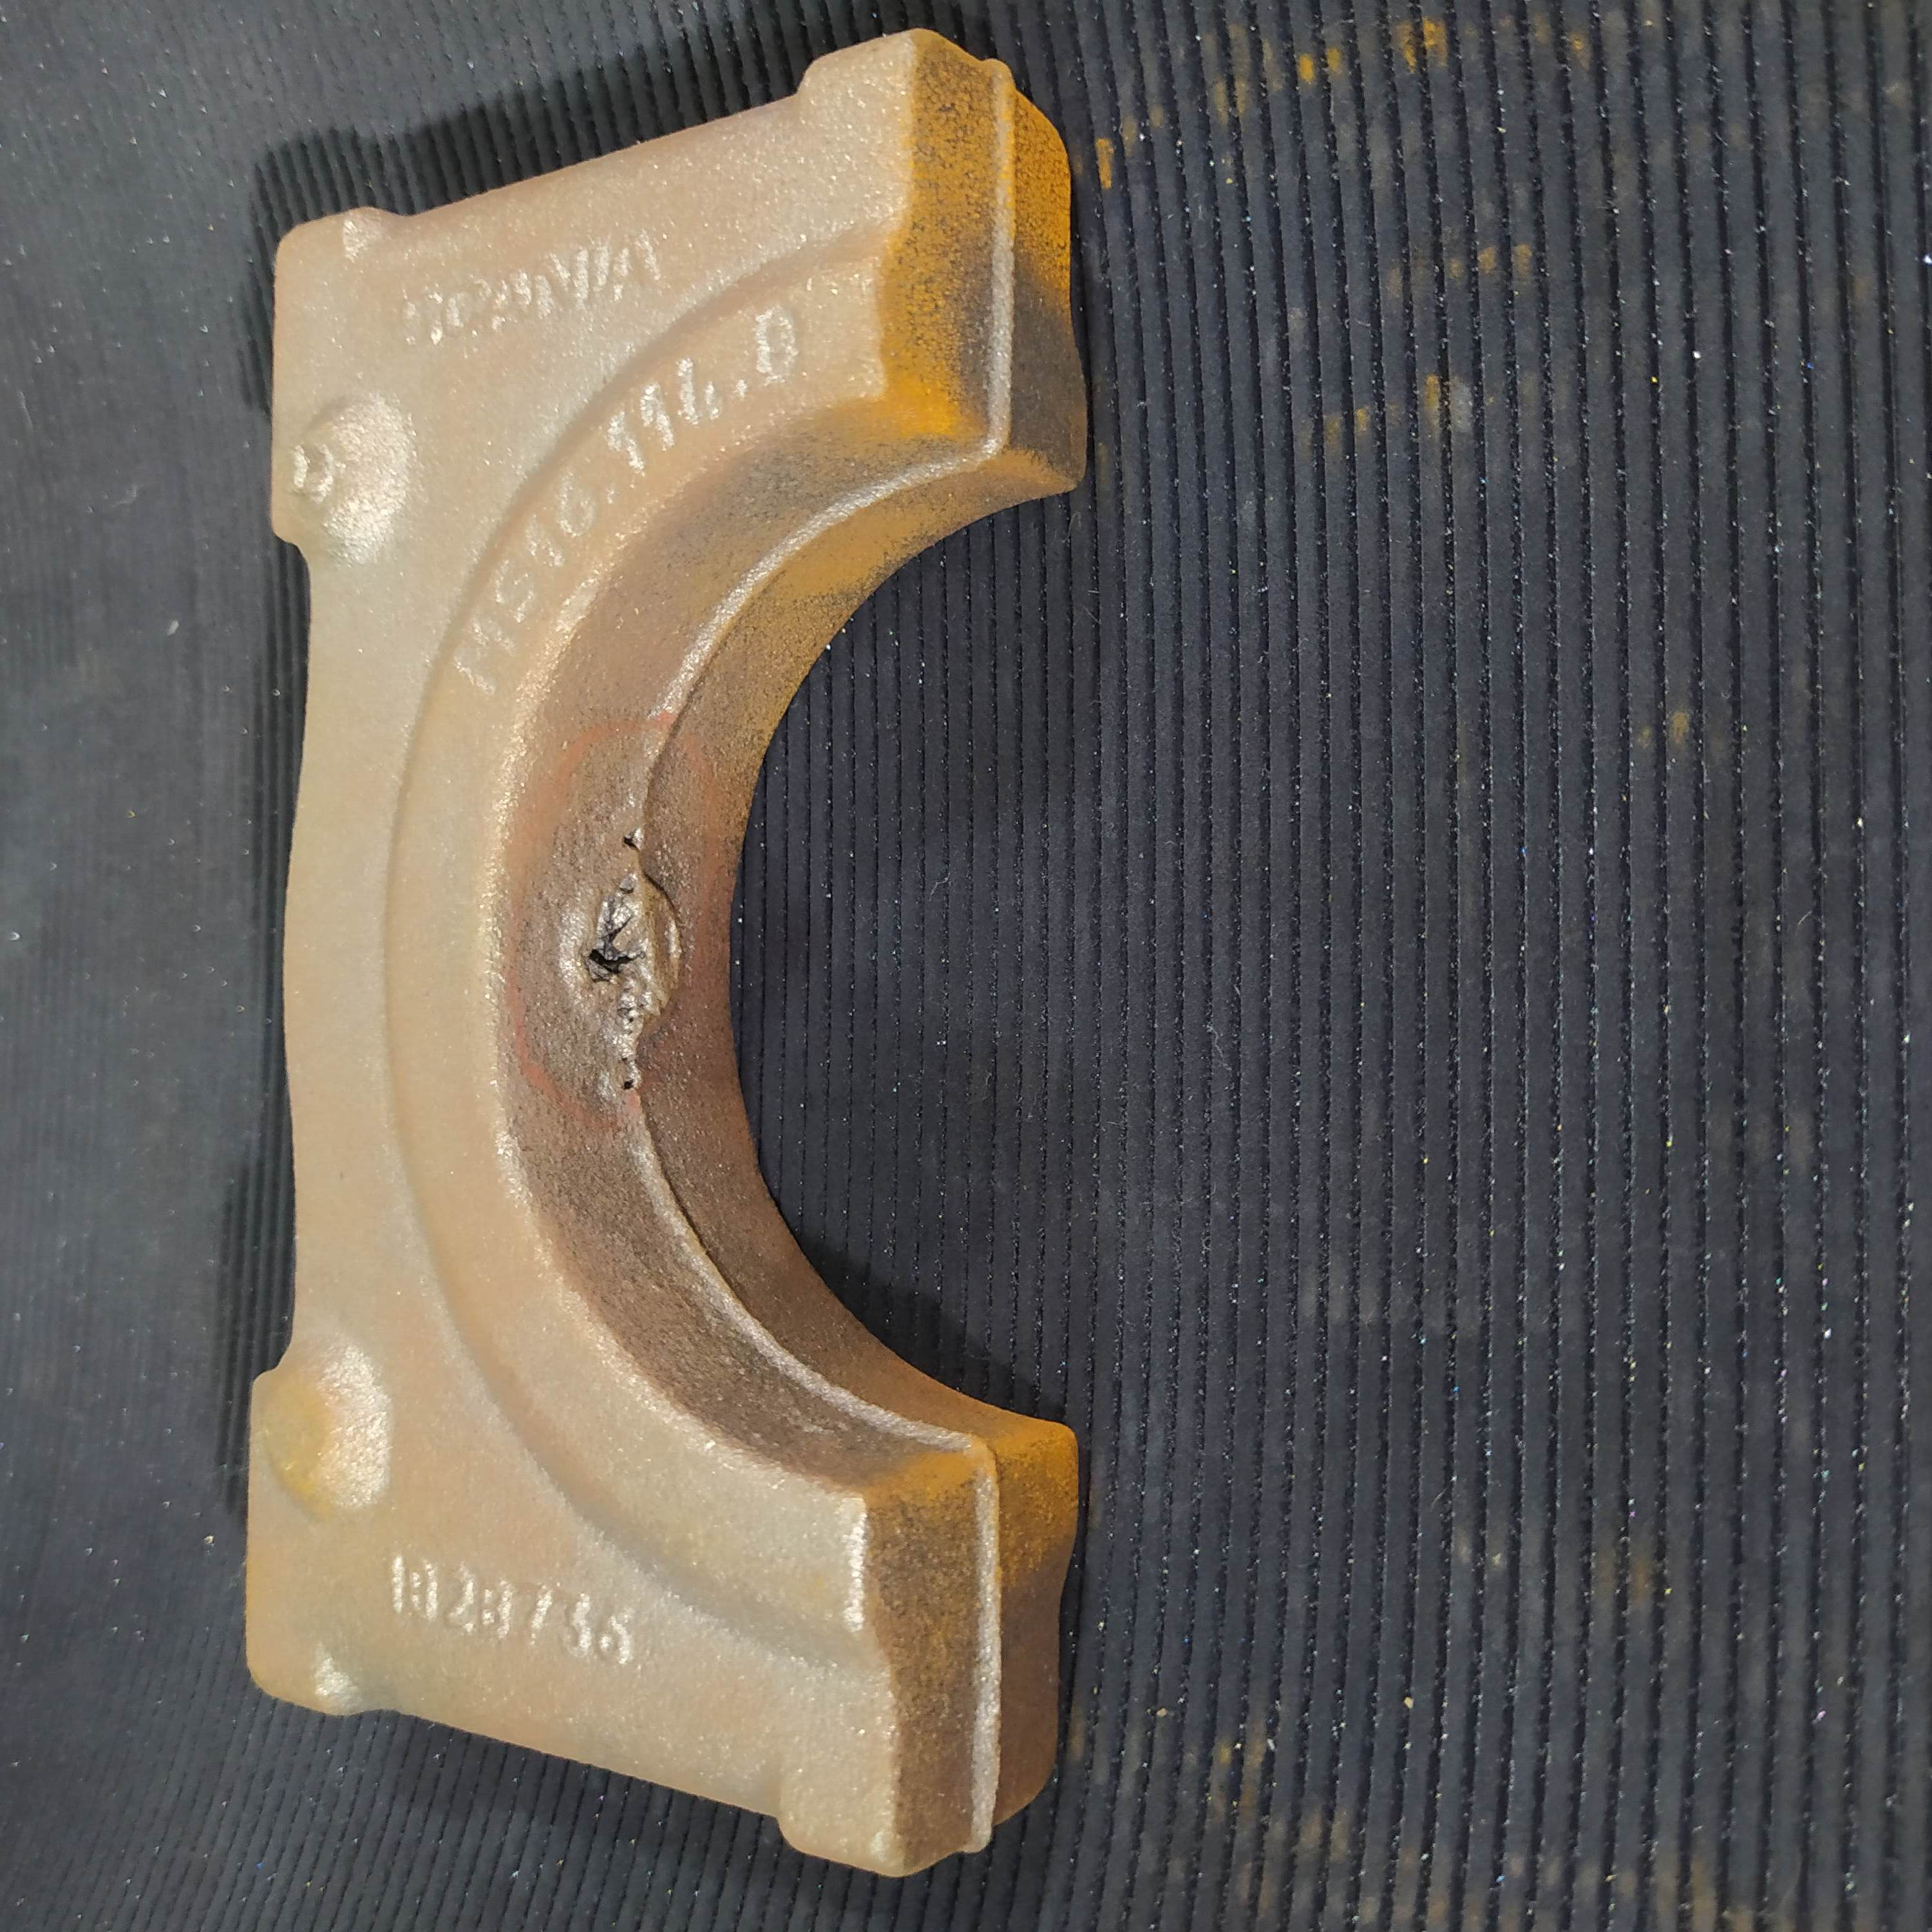buraco: (589, 943, 640, 989), (623, 830, 640, 853), (623, 1077, 635, 1097)
